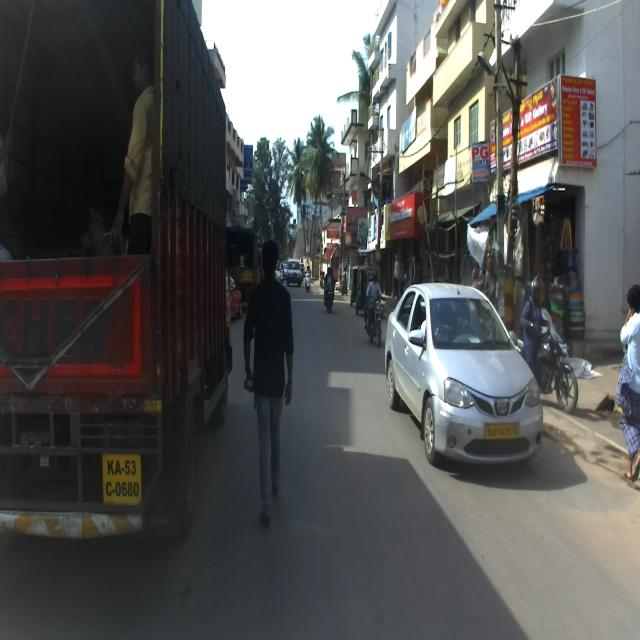car ahead at: (383, 280, 546, 470)
person ahead at: (240, 240, 295, 534)
truck ahead at: (1, 0, 238, 562)
